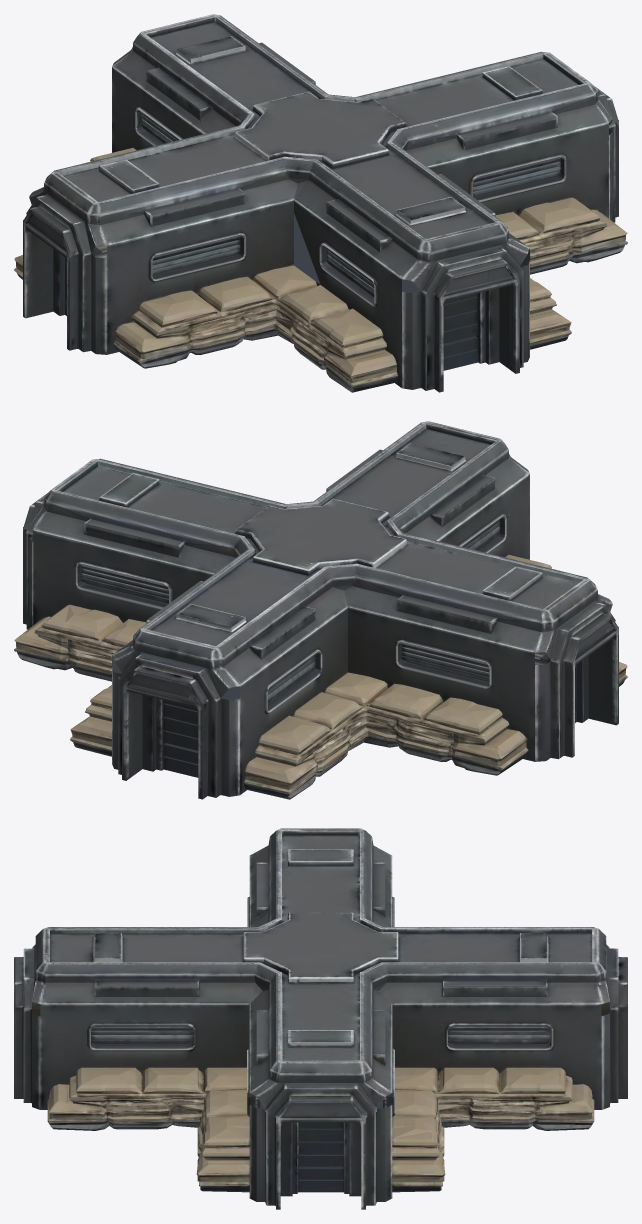
Rendered from garrison_LOD0.glb.
The picture shows the model from 3 angles, top to bottom: view 1: azimuth 30°, elevation 25°; view 2: azimuth 150°, elevation 25°; view 3: azimuth 270°, elevation 25°; orthographic projection. The views are drawn at different scales.
Visible parts, largest first — view 1: garrison_LOD0; view 2: garrison_LOD0; view 3: garrison_LOD0.
Part boxes in pixels (<box>): garrison_LOD0: <box>14,14,627,392</box>; garrison_LOD0: <box>14,421,627,799</box>; garrison_LOD0: <box>14,828,627,1209</box>.
Size of the model in its own units: 1 by 0.2446 by 1.
1 material, 1 textured.
